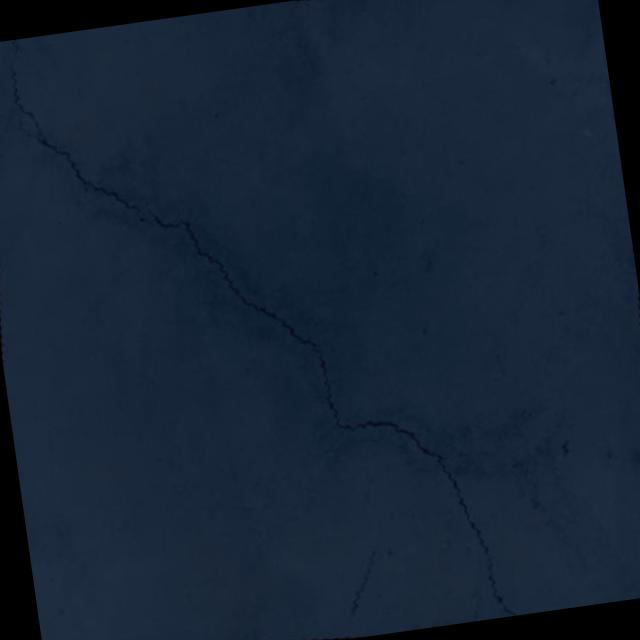crack: (0, 0, 571, 640), (344, 547, 384, 616), (462, 606, 480, 623)
